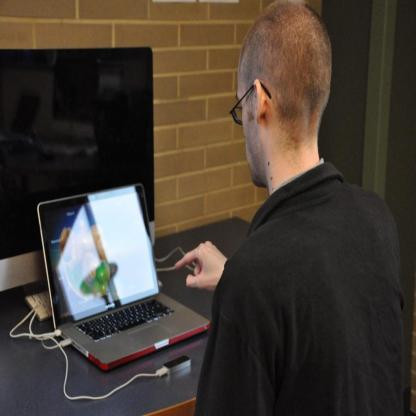board: (36, 182, 208, 371)
